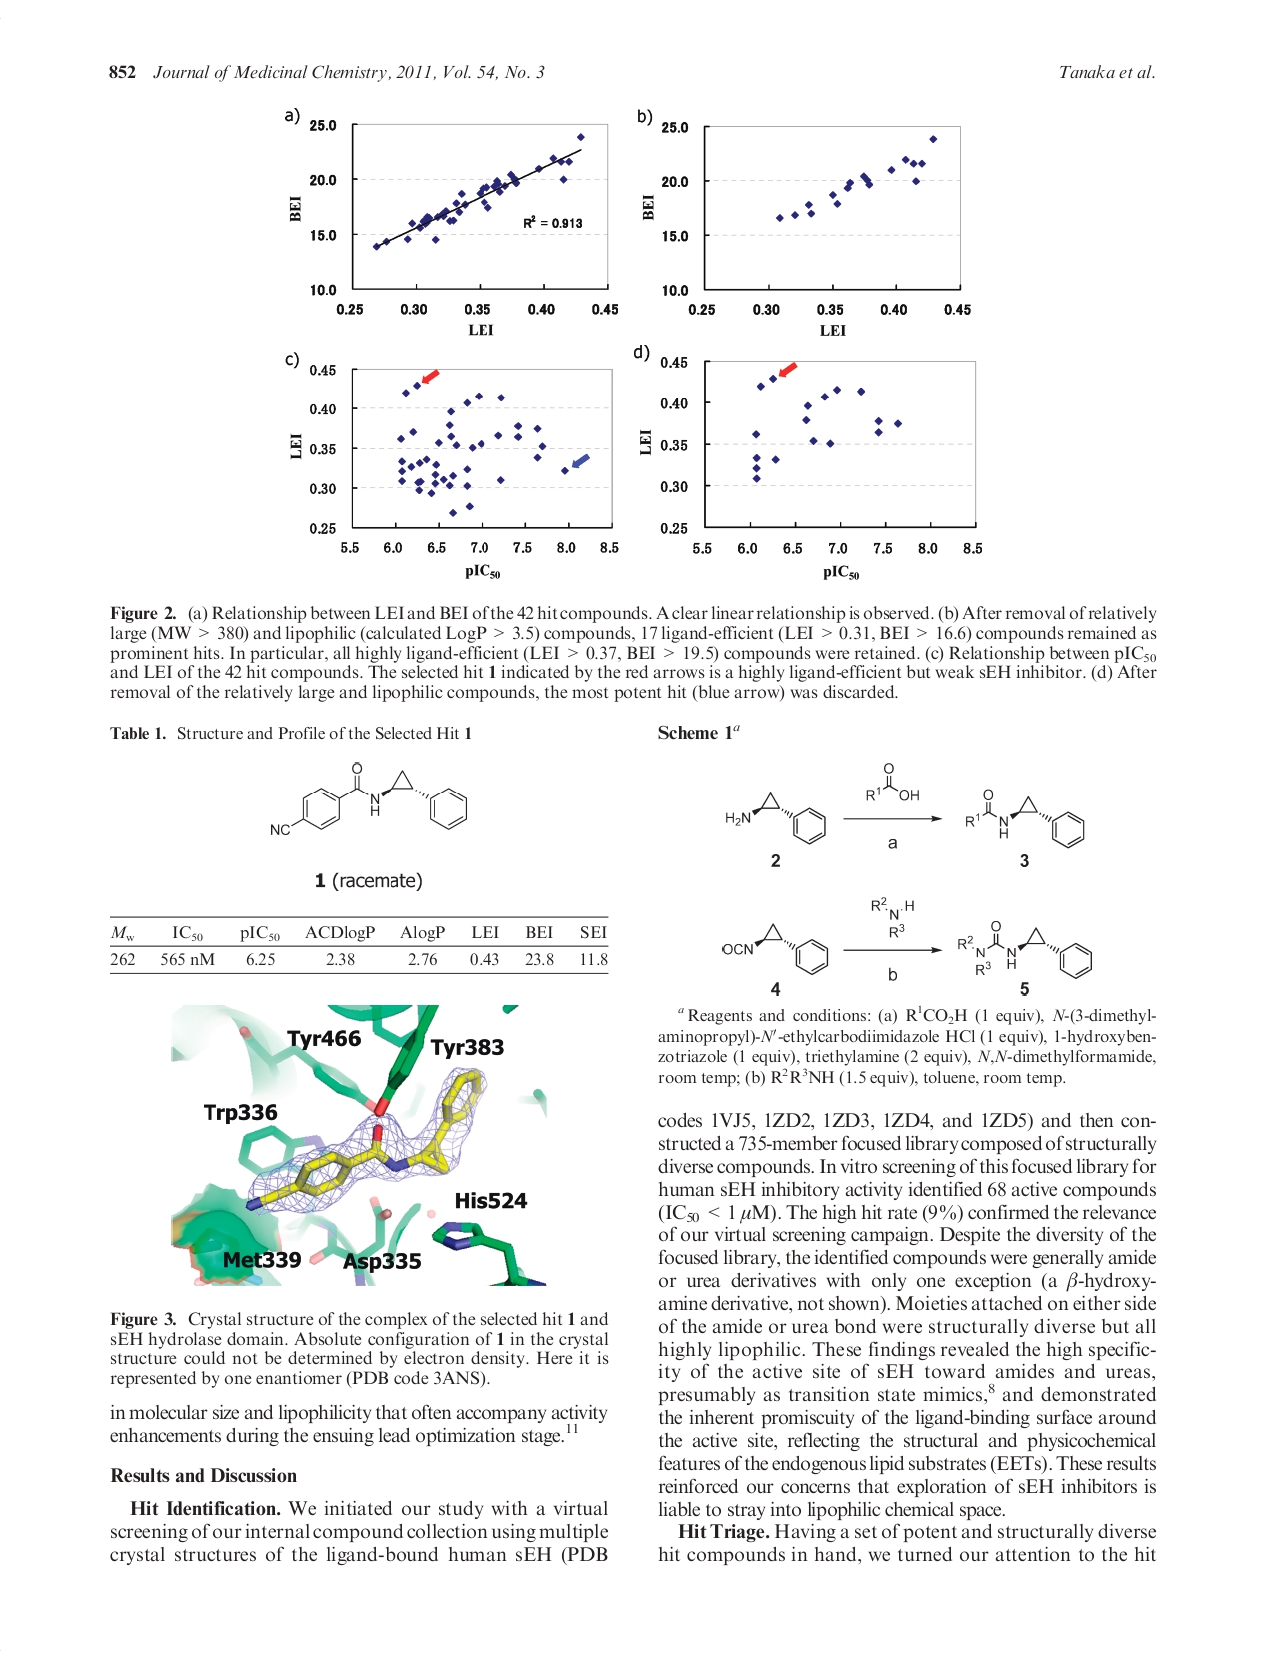exist_molecular: (262, 754, 476, 842), (957, 916, 1096, 981), (959, 785, 1088, 850), (717, 918, 832, 976), (721, 785, 828, 846), (863, 757, 920, 805), (868, 892, 920, 942)
